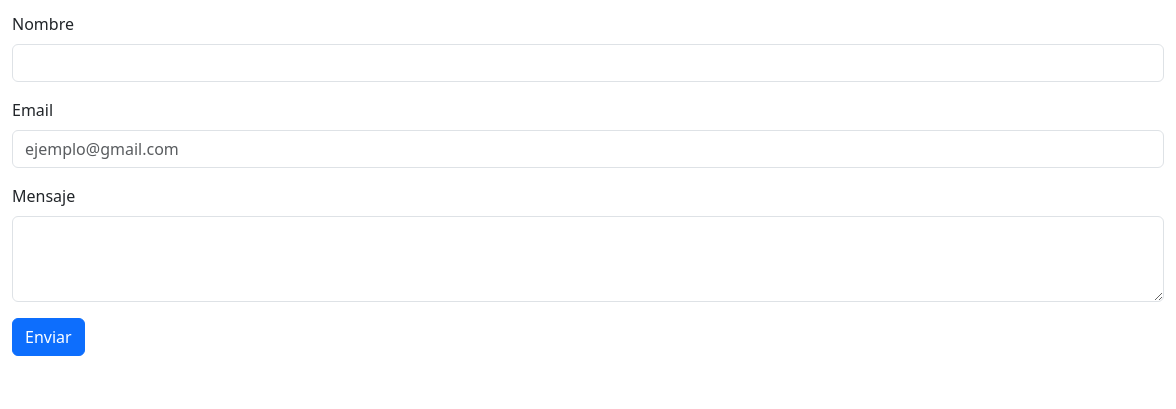
ContactForm Component › valida que el mensaje no esté vacío
In the field labelled "Nombre": (588, 63) [12,44,1164,82], type "Juan Pérez"
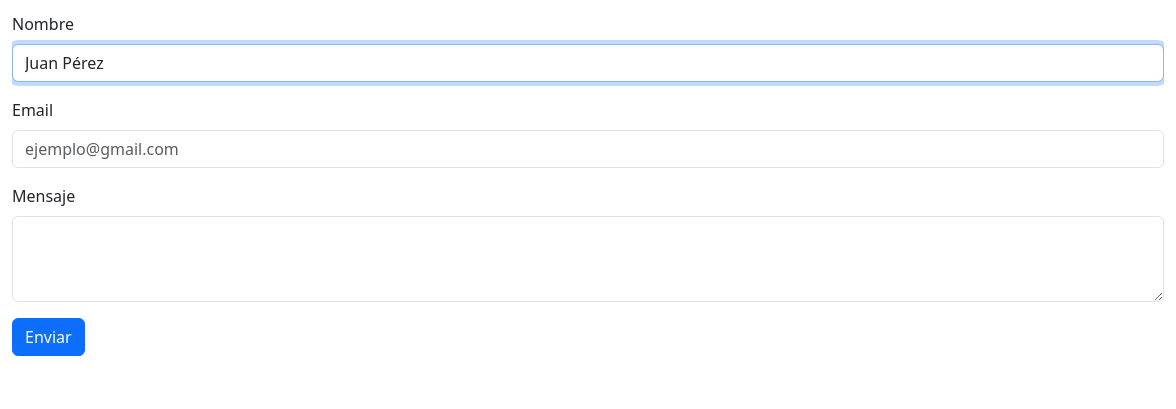
In the field labelled "Email": (588, 149) [12,130,1164,168], type "usuario@duoc.cl"
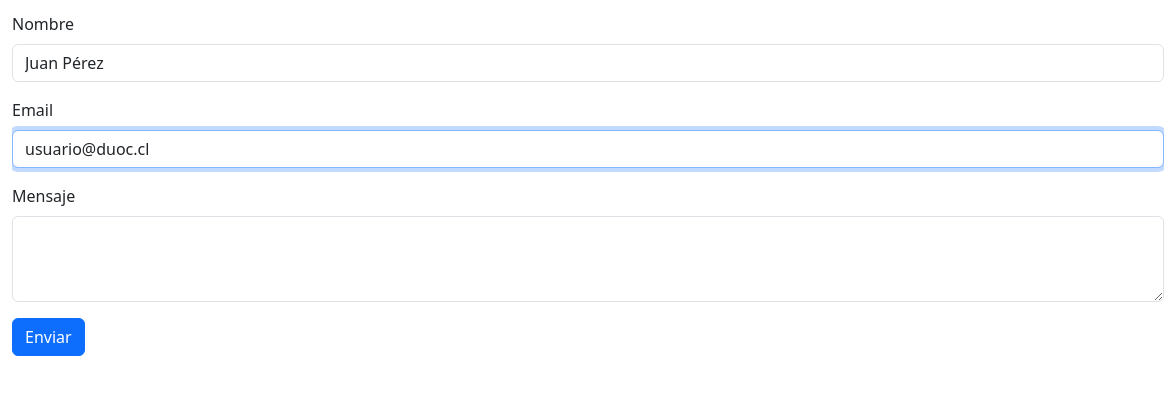
Click the button "Enviar": (48, 337) [12,318,85,356]
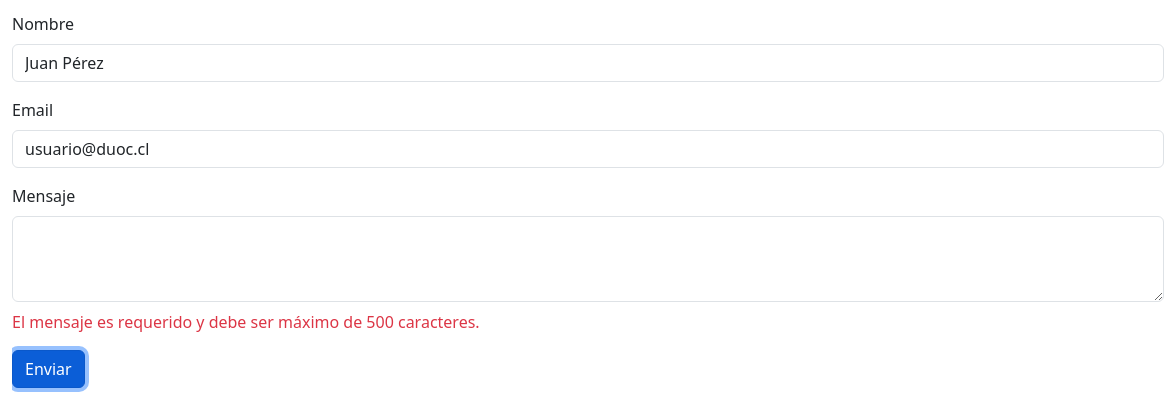
Check: the text "El mensaje es requerido y debe ser máximo de 500 caracteres." is shown, box [12,311,480,333]
